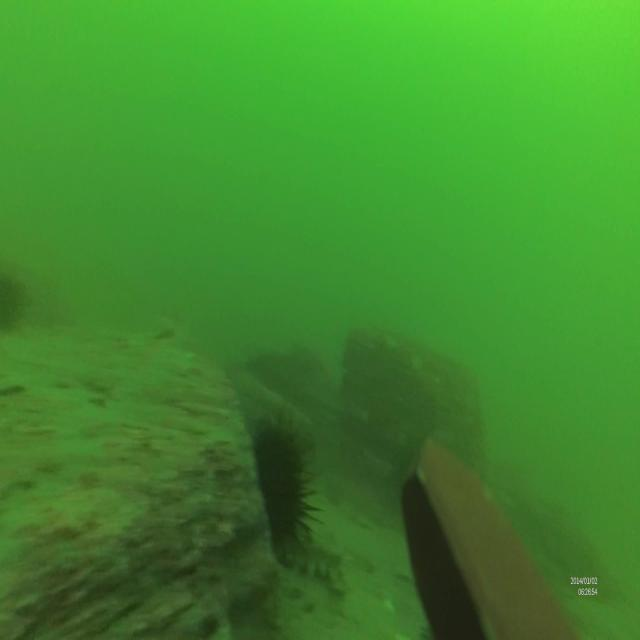echinus: (250, 416, 314, 550)
holothurian: (266, 532, 348, 598)
